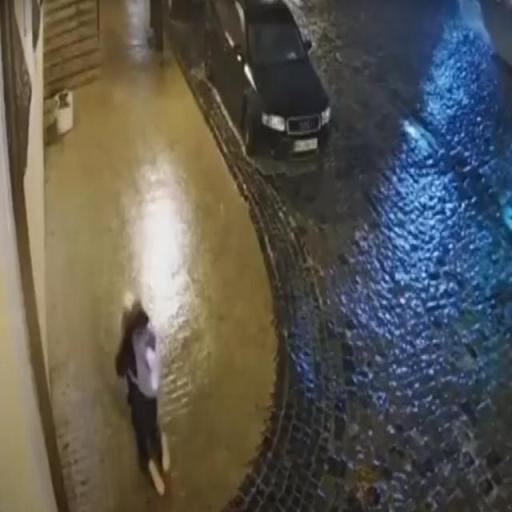Fall: (113, 289, 173, 501)
